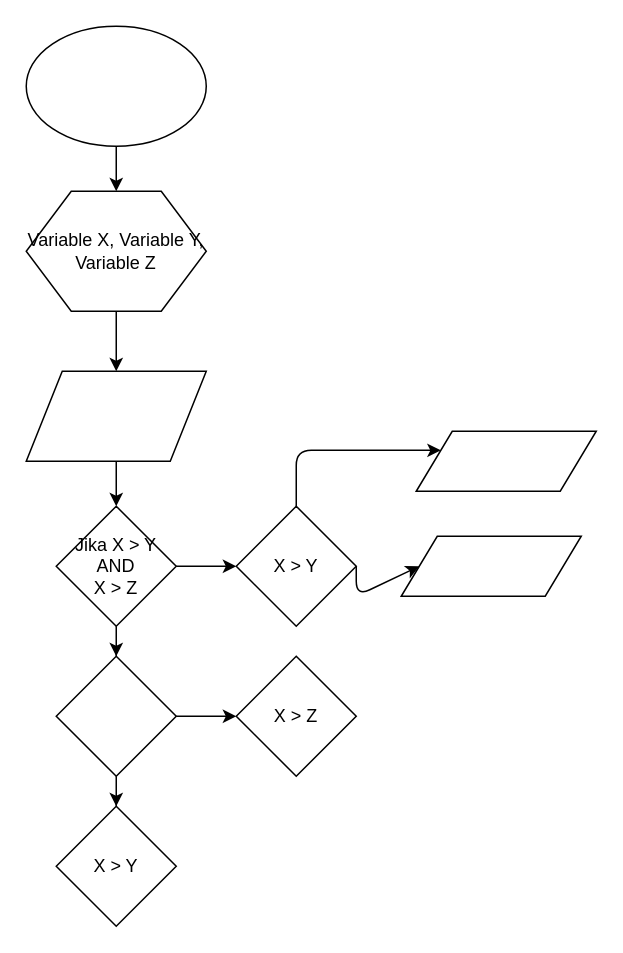
The diagram is 623 pixels wide and 953 high, and some of its shapes have lost their labels. Each missing label, with the centre of its shape:
InputNilai X, Y, Z: (x=115, y=415)
Jika Y >X AND Y > Z: (x=115, y=715)
Start: (x=115, y=85)
